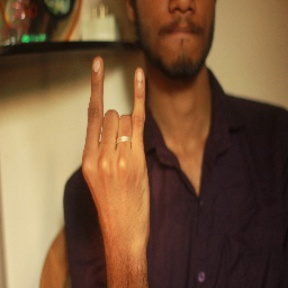V: (75, 53, 160, 224)
